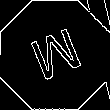M_S: (24, 23, 86, 87)
